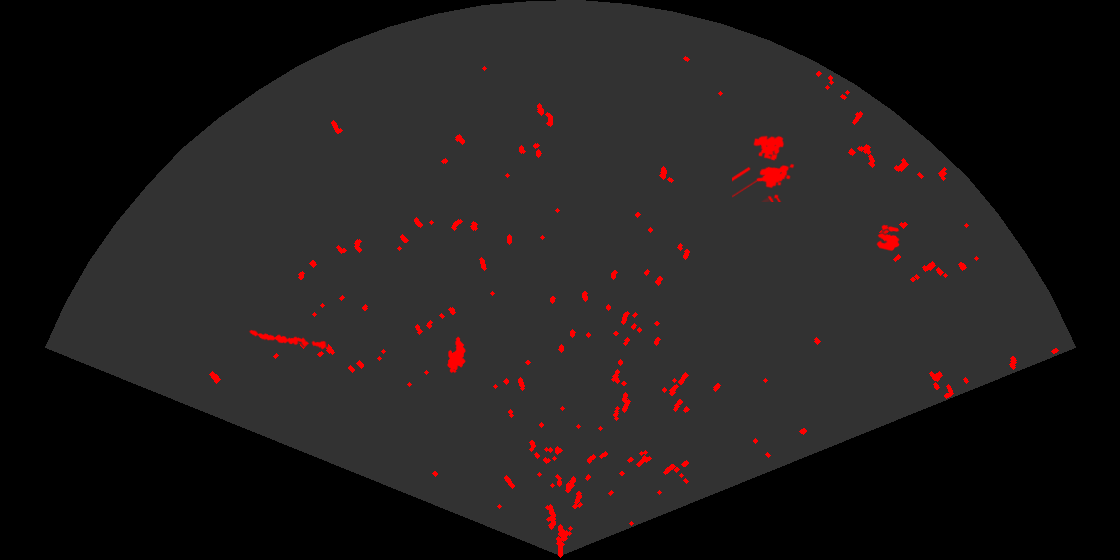AUV: (445, 335, 467, 375)
ball: (875, 223, 901, 253)
cage: (732, 134, 796, 202)
chain: (247, 328, 328, 351)
